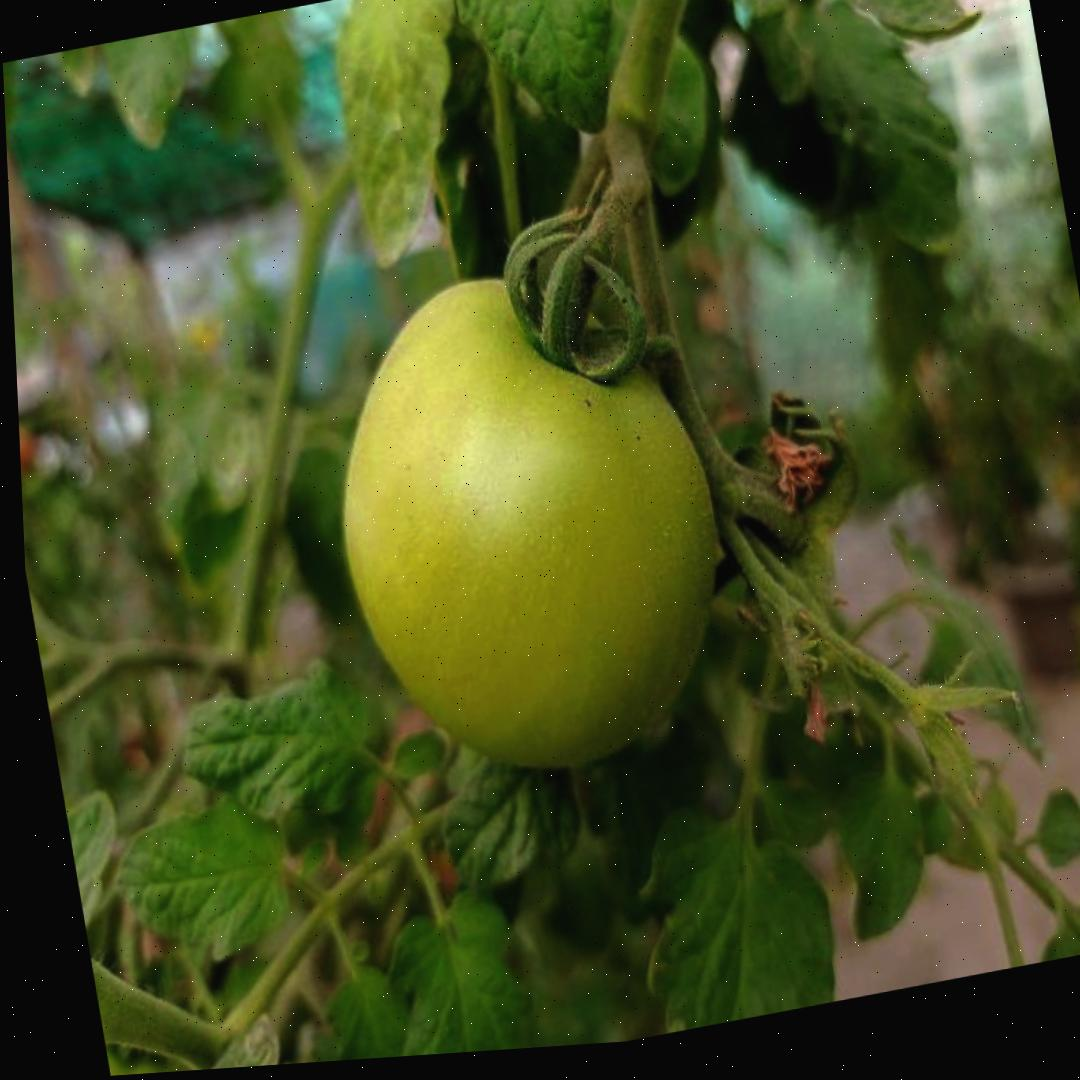mentah: (298, 230, 756, 811)
